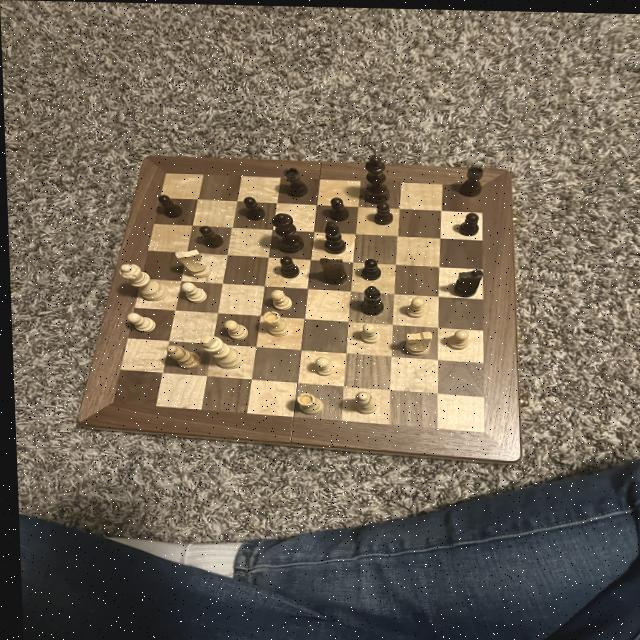bishop: (351, 281, 387, 316), (317, 218, 349, 254)
black-bishop: (357, 149, 394, 205)
black-king: (445, 264, 490, 301), (313, 253, 348, 288)
black-knight: (451, 209, 483, 236), (271, 250, 300, 279), (238, 193, 266, 222), (192, 223, 224, 247), (368, 198, 395, 226), (324, 194, 351, 222), (156, 193, 183, 219), (356, 257, 382, 281)
black-pawn: (267, 209, 306, 253)
black-queen: (279, 165, 310, 197), (458, 163, 485, 199)
black-rook: (160, 340, 202, 372), (346, 385, 380, 417)
white-bishop: (195, 334, 246, 371)
white-king: (168, 245, 214, 280), (399, 327, 433, 358)
white-knight: (123, 311, 157, 334), (175, 280, 207, 303), (399, 293, 427, 319), (442, 325, 470, 351), (218, 317, 248, 341), (265, 287, 294, 311), (309, 352, 334, 376), (354, 320, 379, 344)
white-pawn: (115, 260, 170, 303)
white-queen: (257, 307, 292, 341), (289, 388, 326, 417)
